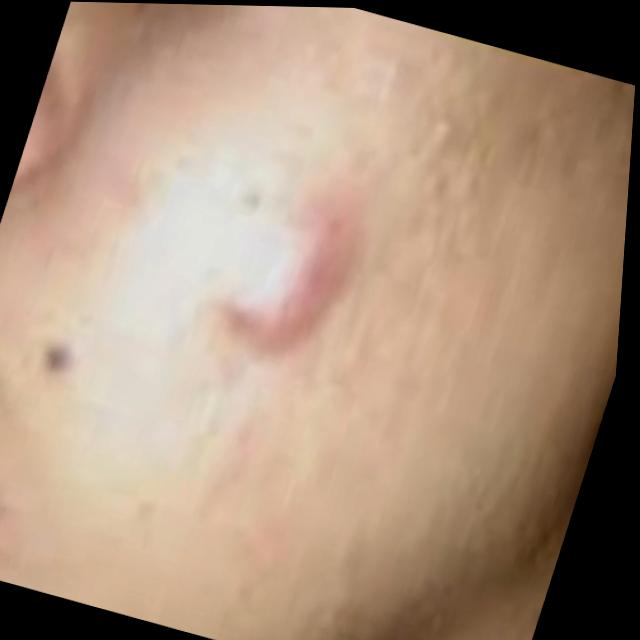nodule: (203, 148, 390, 398)
